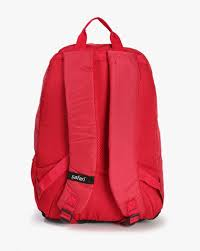backpack: (30, 16, 164, 225)
